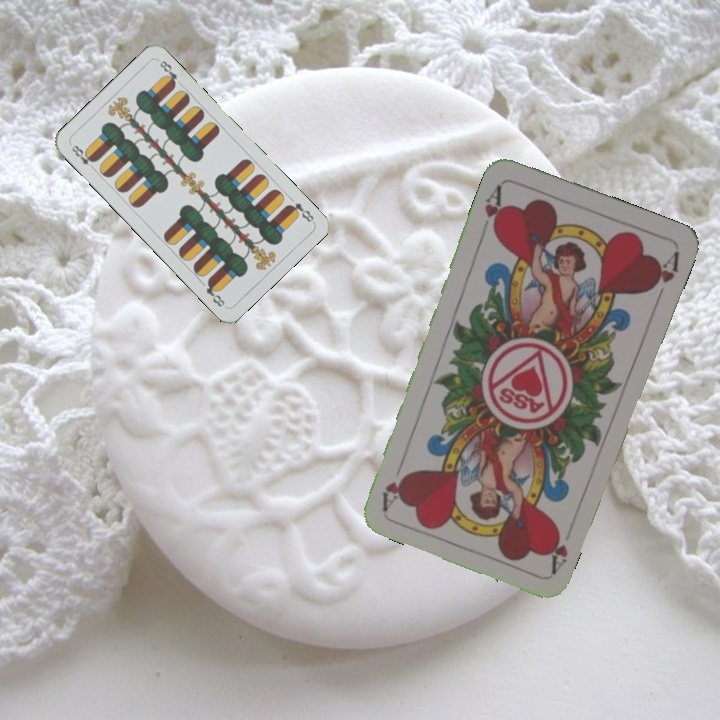E8: (67, 140, 98, 173), (283, 198, 316, 225)
HA: (477, 180, 507, 238), (542, 523, 571, 576)
